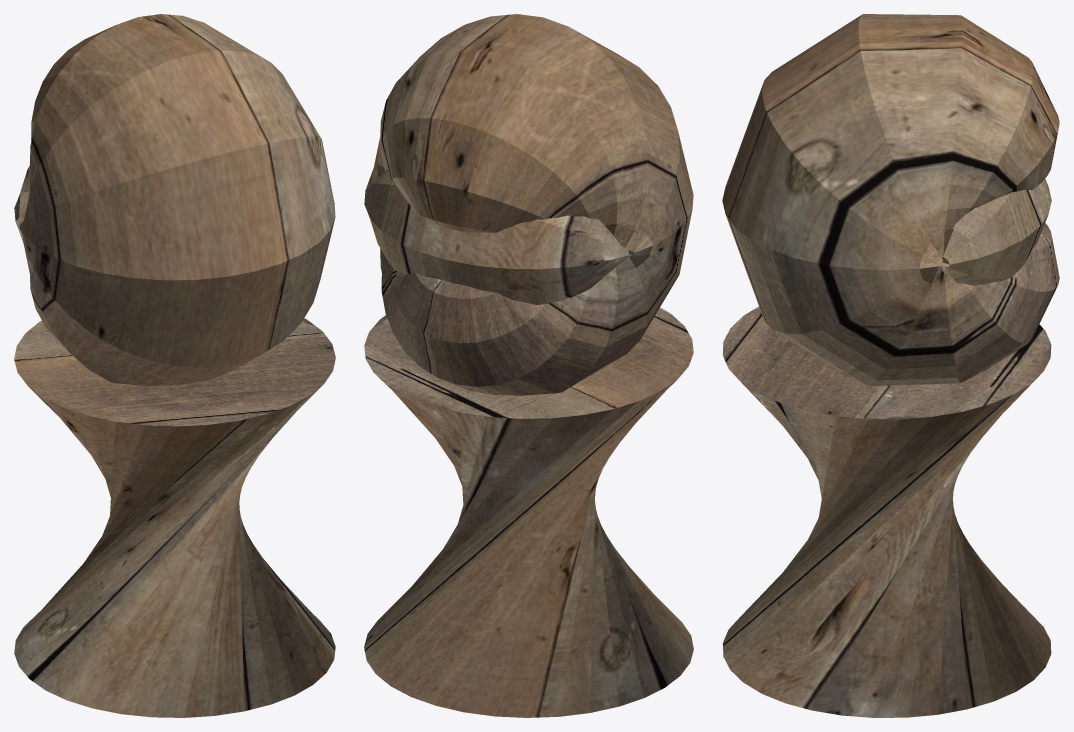
The model's file is Knight.glb.
The picture shows the model from 3 angles, left to right: view 1: azimuth 30°, elevation 25°; view 2: azimuth 150°, elevation 25°; view 3: azimuth 270°, elevation 25°; orthographic projection. The views are drawn at different scales.
Visible parts, largest first — view 1: Node2, Node1; view 2: Node2, Node1; view 3: Node2, Node1.
Boxes of the visible parts, <box> form: Node2: <box>14,14,335,385</box>; Node1: <box>14,318,335,717</box>; Node2: <box>364,14,693,395</box>; Node1: <box>364,307,693,717</box>; Node2: <box>722,14,1059,386</box>; Node1: <box>722,306,1051,717</box>.
Size of the model in its own units: 2 by 4.16 by 2.05.
1 material, 1 textured.
